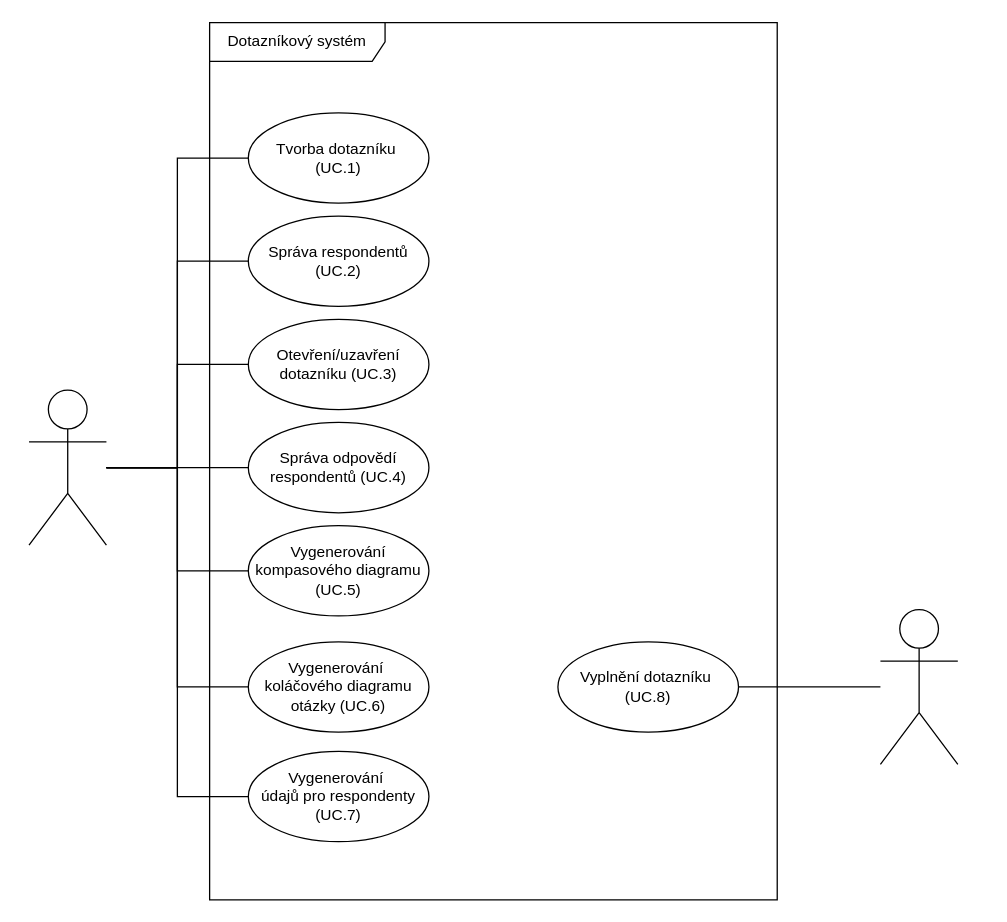
This 1007x922 diagram has some shape labels left out. The shapes that lost their labels are listed below. From the top down, each one's box as (x1, y1, x2, y2) in pixels, then its label:
(28, 389, 106, 545): Administrátor
(879, 608, 958, 764): Účastník průzkumu
